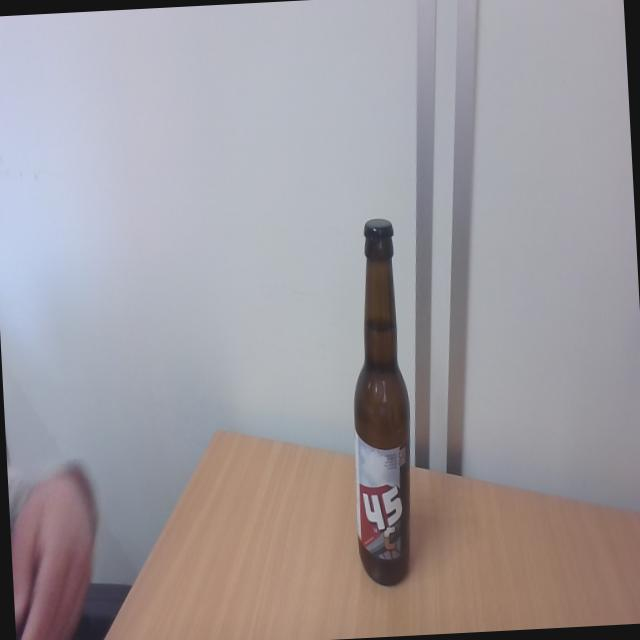Bottle: (342, 242, 418, 588)
Cap: (363, 216, 395, 244)
Label: (356, 436, 414, 559)
